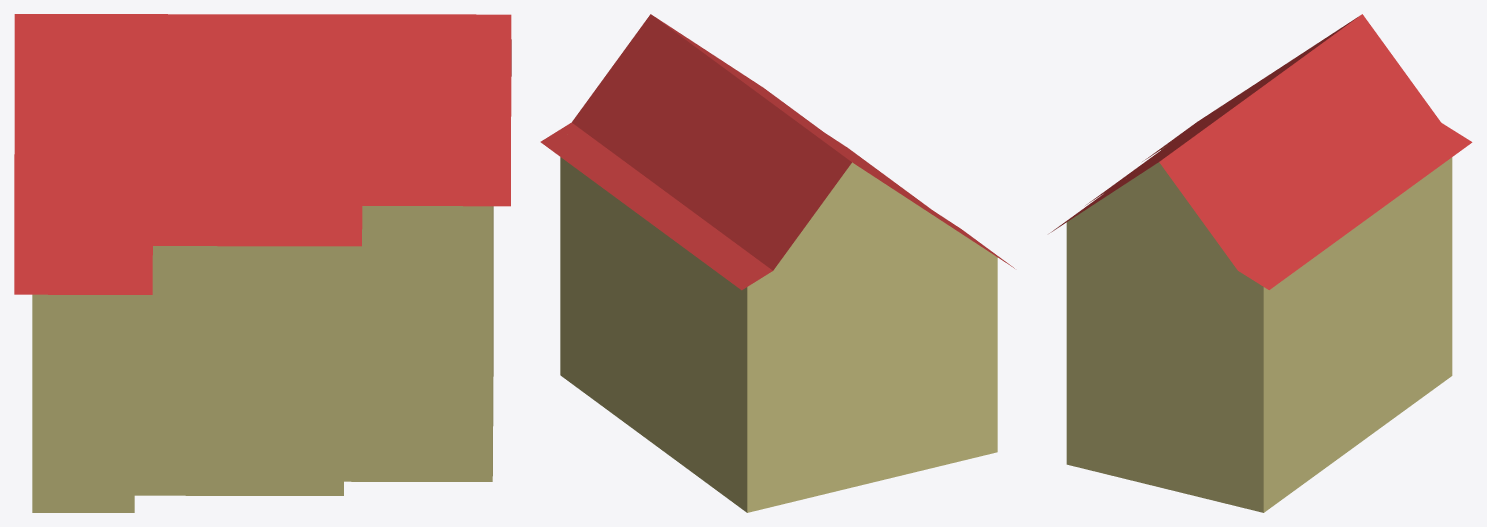
3 renders of one model, left to right at view 1: azimuth 30°, elevation 25°; view 2: azimuth 150°, elevation 25°; view 3: azimuth 270°, elevation 25°, orthographic. The views are drawn at different scales.
Bounding box in the file's own units: 17.17 × 14.35 × 12.35.
